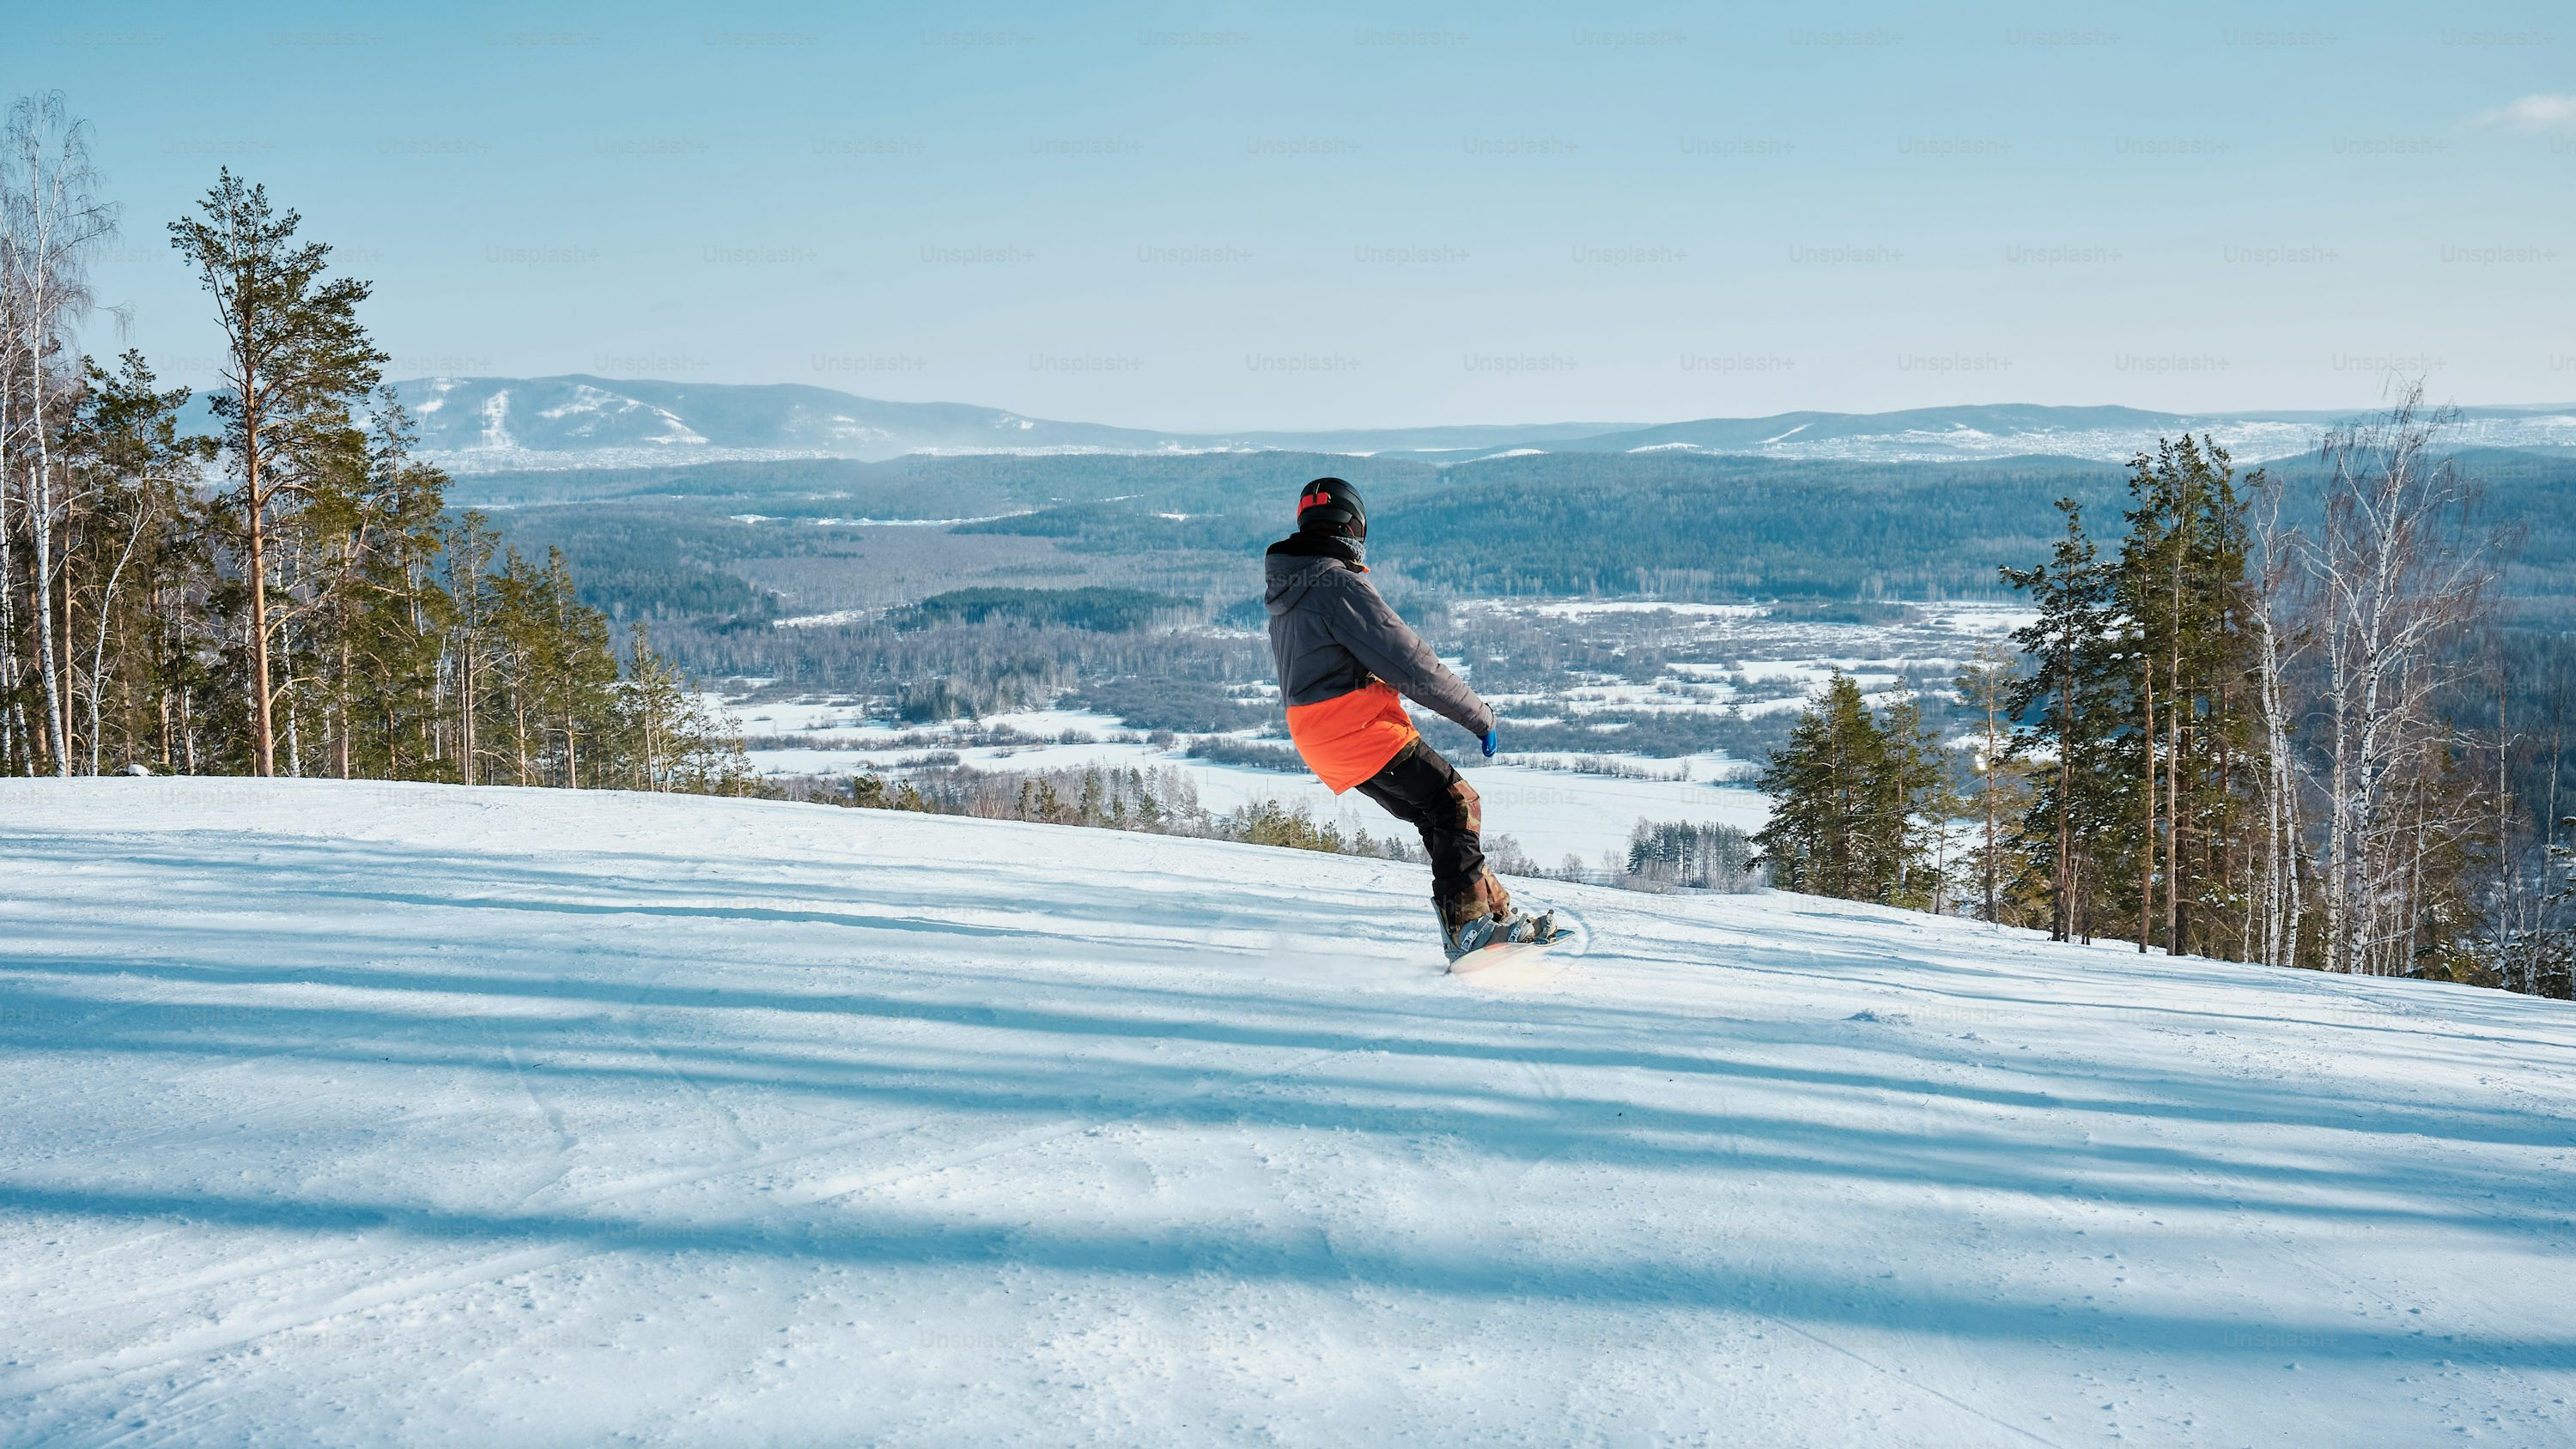snowboarder: (1228, 421, 1629, 1023)
